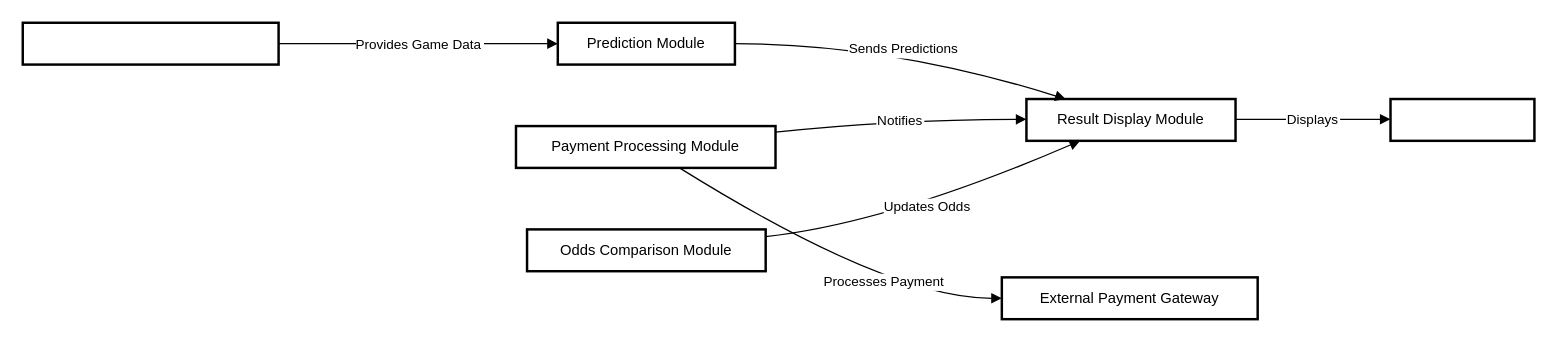
Image size: 1556x341. Some labels were removed from this diagram. Each missing label, with the centre of its shape:
"Game Management Module" goes at (x=150, y=43).
"User Interface" goes at (x=1462, y=119).
